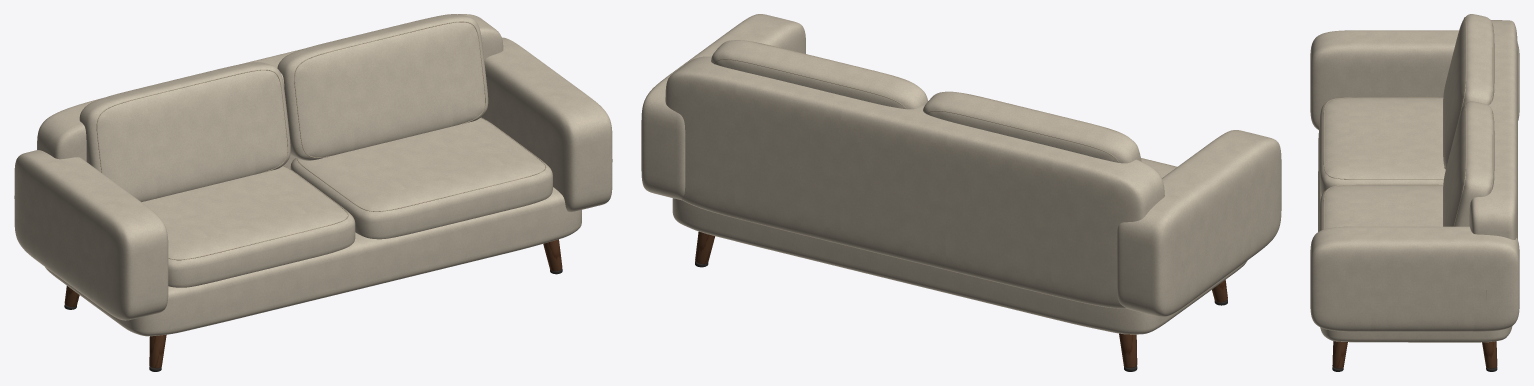
3 renders of one model, left to right at view 1: azimuth 30°, elevation 25°; view 2: azimuth 150°, elevation 25°; view 3: azimuth 270°, elevation 25°, orthographic. The views are drawn at different scales.
Parts seen in each view (by area): view 1: Right | feather back cushion, Left | feather back cushion, Right | loose seat cushion, Upholstered deck, Left | rounded upholstered arm, Left | loose seat cushion, Right | rounded upholstered arm, Rear | upholstered back shell, Right | feather back cushion | upper tailored welt, Walnut | splayed tapered foot, Left | feather back cushion | upper tailored welt; view 2: Rear | upholstered back shell, Left | rounded upholstered arm, Upholstered deck, Right | rounded upholstered arm, Left | feather back cushion, Right | feather back cushion, Walnut | splayed tapered foot.001; view 3: Right | rounded upholstered arm, Left | loose seat cushion, Left | rounded upholstered arm, Rear | upholstered back shell, Right | loose seat cushion, Right | feather back cushion, Left | feather back cushion, Upholstered deck, Left | loose seat cushion | upper tailored welt, Walnut | splayed tapered foot.002, Walnut | splayed tapered foot.003, Right | loose seat cushion | upper tailored welt (+2 smaller).
Boxes of the visible parts, bbox=[...] form: Right | feather back cushion: bbox=[277, 14, 488, 160]; Left | feather back cushion: bbox=[79, 62, 290, 201]; Right | loose seat cushion: bbox=[290, 118, 552, 239]; Upholstered deck: bbox=[45, 187, 581, 336]; Left | rounded upholstered arm: bbox=[14, 150, 168, 320]; Left | loose seat cushion: bbox=[142, 166, 355, 287]; Right | rounded upholstered arm: bbox=[481, 37, 612, 211]; Rear | upholstered back shell: bbox=[37, 14, 503, 168]; Right | feather back cushion | upper tailored welt: bbox=[294, 21, 485, 157]; Walnut | splayed tapered foot: bbox=[149, 334, 166, 368]; Left | feather back cushion | upper tailored welt: bbox=[96, 69, 288, 172]; Rear | upholstered back shell: bbox=[665, 56, 1164, 308]; Left | rounded upholstered arm: bbox=[1117, 130, 1281, 316]; Upholstered deck: bbox=[672, 198, 1246, 334]; Right | rounded upholstered arm: bbox=[641, 14, 805, 200]; Left | feather back cushion: bbox=[923, 91, 1141, 163]; Right | feather back cushion: bbox=[711, 40, 927, 109]; Walnut | splayed tapered foot.001: bbox=[1119, 333, 1137, 367]; Right | rounded upholstered arm: bbox=[1310, 226, 1519, 331]; Left | loose seat cushion: bbox=[1319, 97, 1445, 195]; Left | rounded upholstered arm: bbox=[1310, 30, 1519, 129]; Rear | upholstered back shell: bbox=[1469, 20, 1517, 239]; Right | loose seat cushion: bbox=[1319, 185, 1443, 230]; Right | feather back cushion: bbox=[1443, 101, 1494, 226]; Left | feather back cushion: bbox=[1443, 14, 1494, 169]; Upholstered deck: bbox=[1318, 127, 1512, 342]; Left | loose seat cushion | upper tailored welt: bbox=[1323, 97, 1443, 179]; Walnut | splayed tapered foot.002: bbox=[1332, 341, 1347, 368]; Walnut | splayed tapered foot.003: bbox=[1482, 341, 1497, 368]; Right | loose seat cushion | upper tailored welt: bbox=[1323, 184, 1442, 229].
Bounding box in the file's own units: 2.27 × 0.9173 × 0.925.
4 materials, 2 textured.
